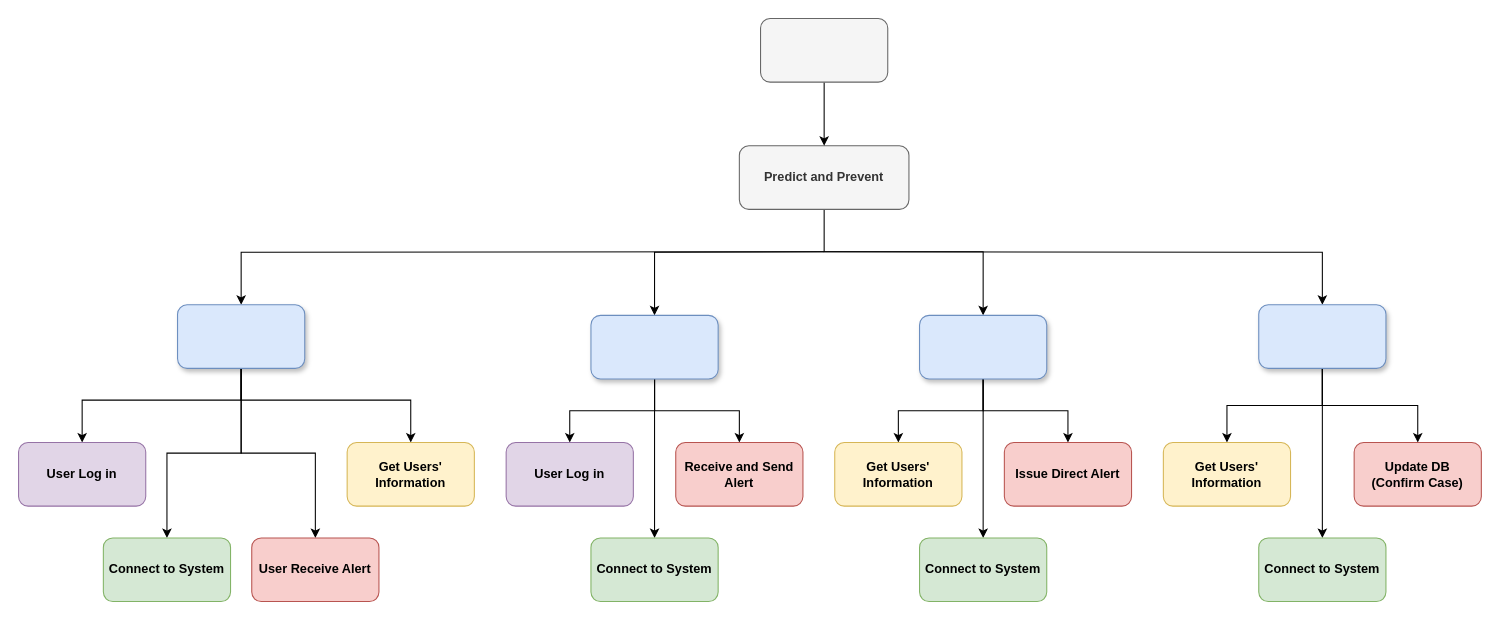
Image size: 1500x620. Some labels were removed from this diagram. Here are the shapes that lost their labels. From the top down, the centre of each, then its label:
At [823,49]: "COVID Alert System".
At [241,337]: "Resident user".
At [655,348]: "Alert center".
At [983,348]: "Public Health Service".
At [1322,337]: "Lab".
